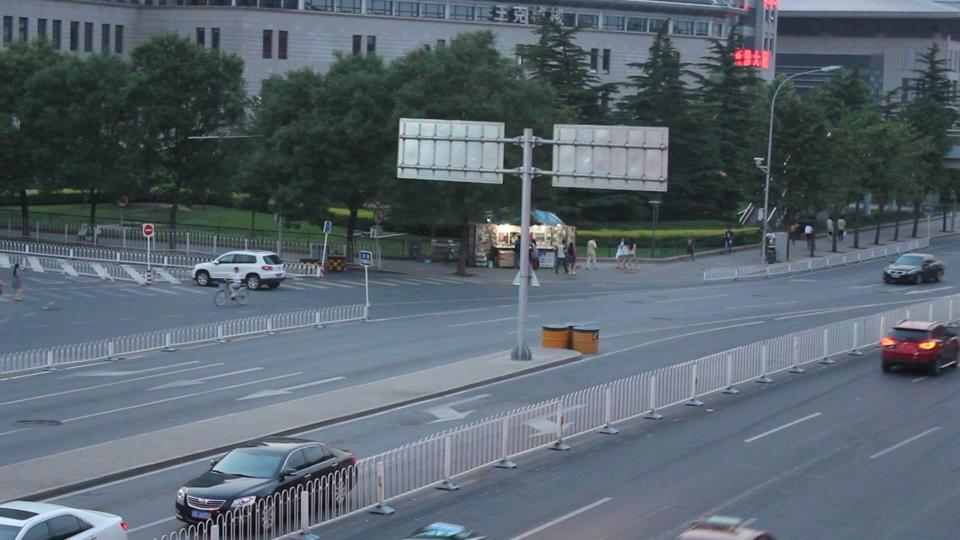Car: (177, 440, 356, 520), (1, 491, 129, 540), (878, 315, 960, 374), (192, 249, 284, 289), (877, 248, 940, 285)
